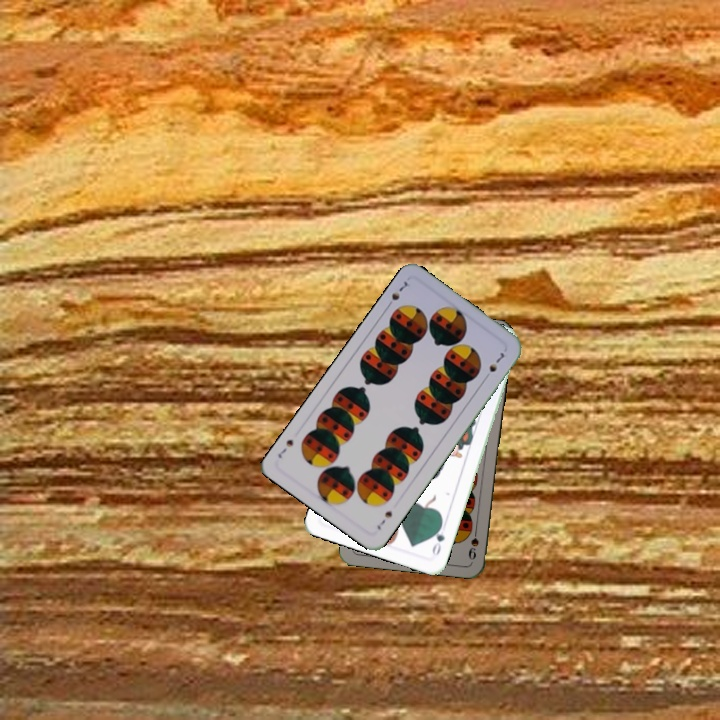GO: (428, 519, 447, 559)
S7: (382, 277, 410, 311), (373, 507, 395, 533)
S9: (464, 522, 481, 562)
